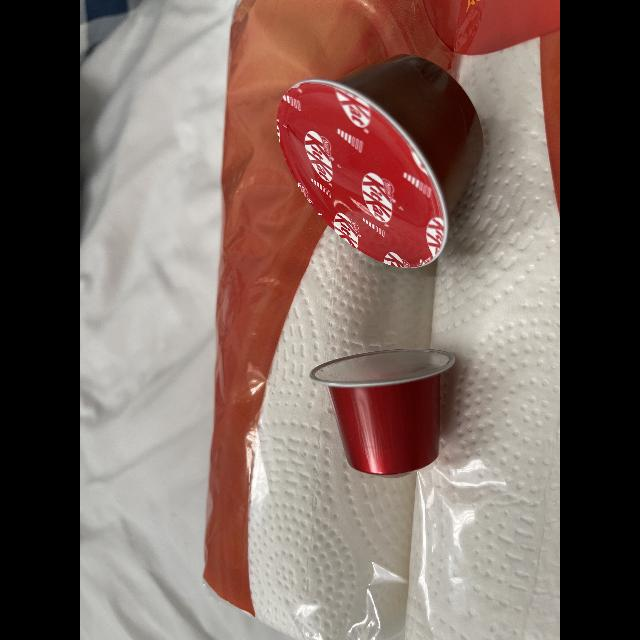intact_capsule: (264, 34, 498, 280), (304, 336, 474, 492)
